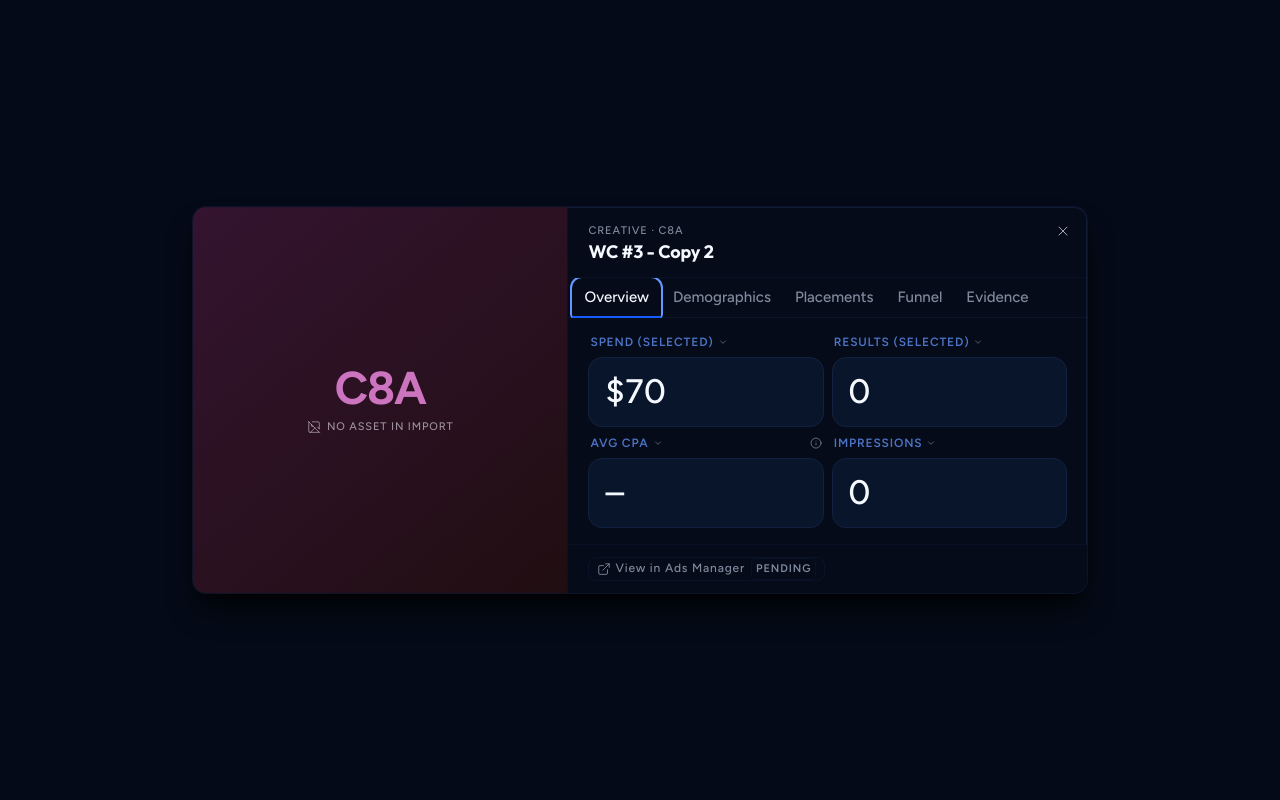
Test: creative dialog joins evidence through mapped Ad IDs › Placements shows the platform drill
This screenshot has width=1280, height=800.
Click the tab "Placements" at (834, 298), box [783,278,885,318]
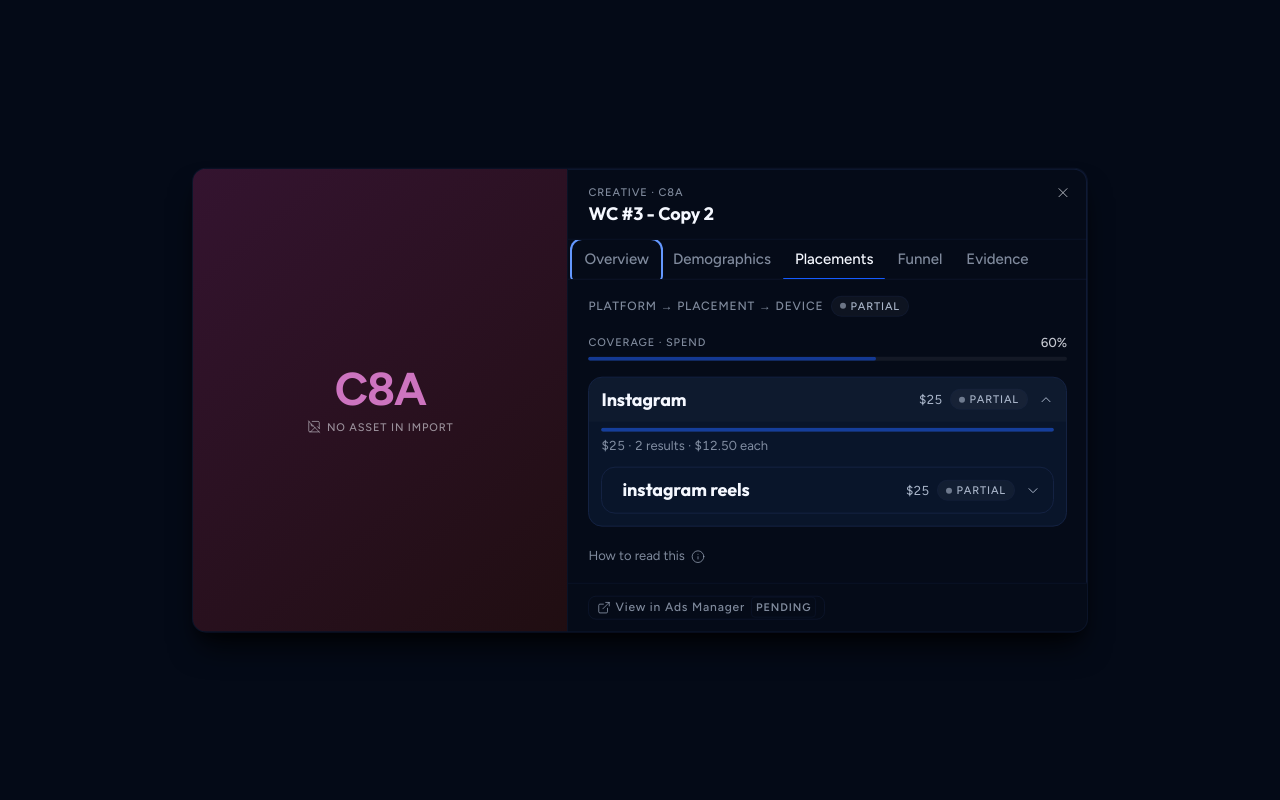
Expected: the element with test id "placement-drill" is shown, [588,295,1067,566]
